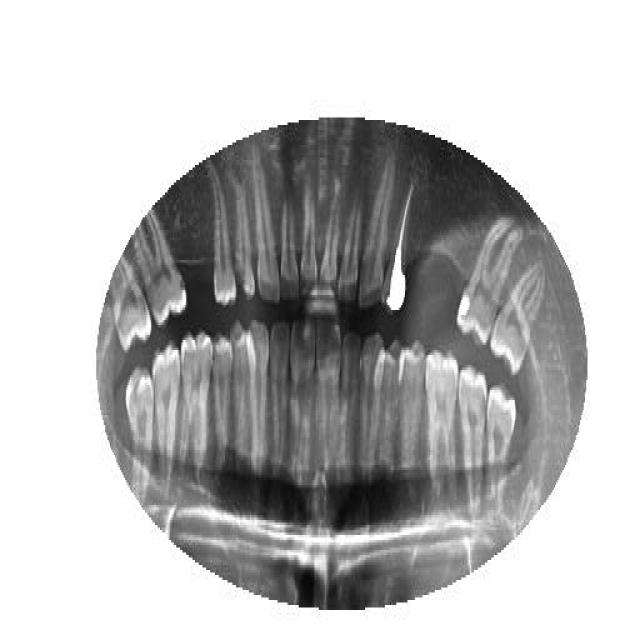Implant: (380, 183, 420, 315)
